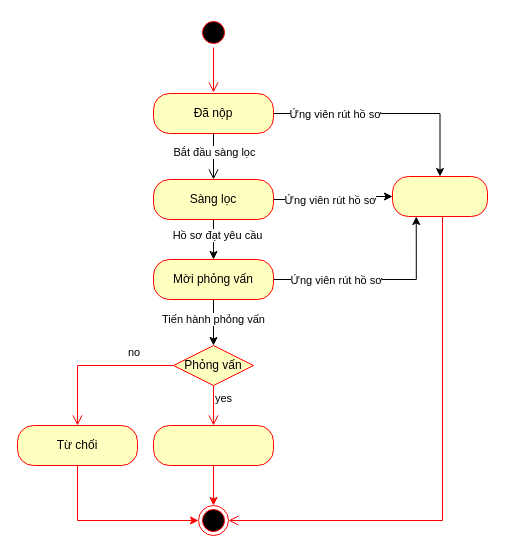
Image size: 505x553. Some labels were removed from this diagram. Here are the shapes that lost their labels. From the top down, the centre of each, then its label:
(x=440, y=196): Đã rút
(x=213, y=445): Trúng tuyển
